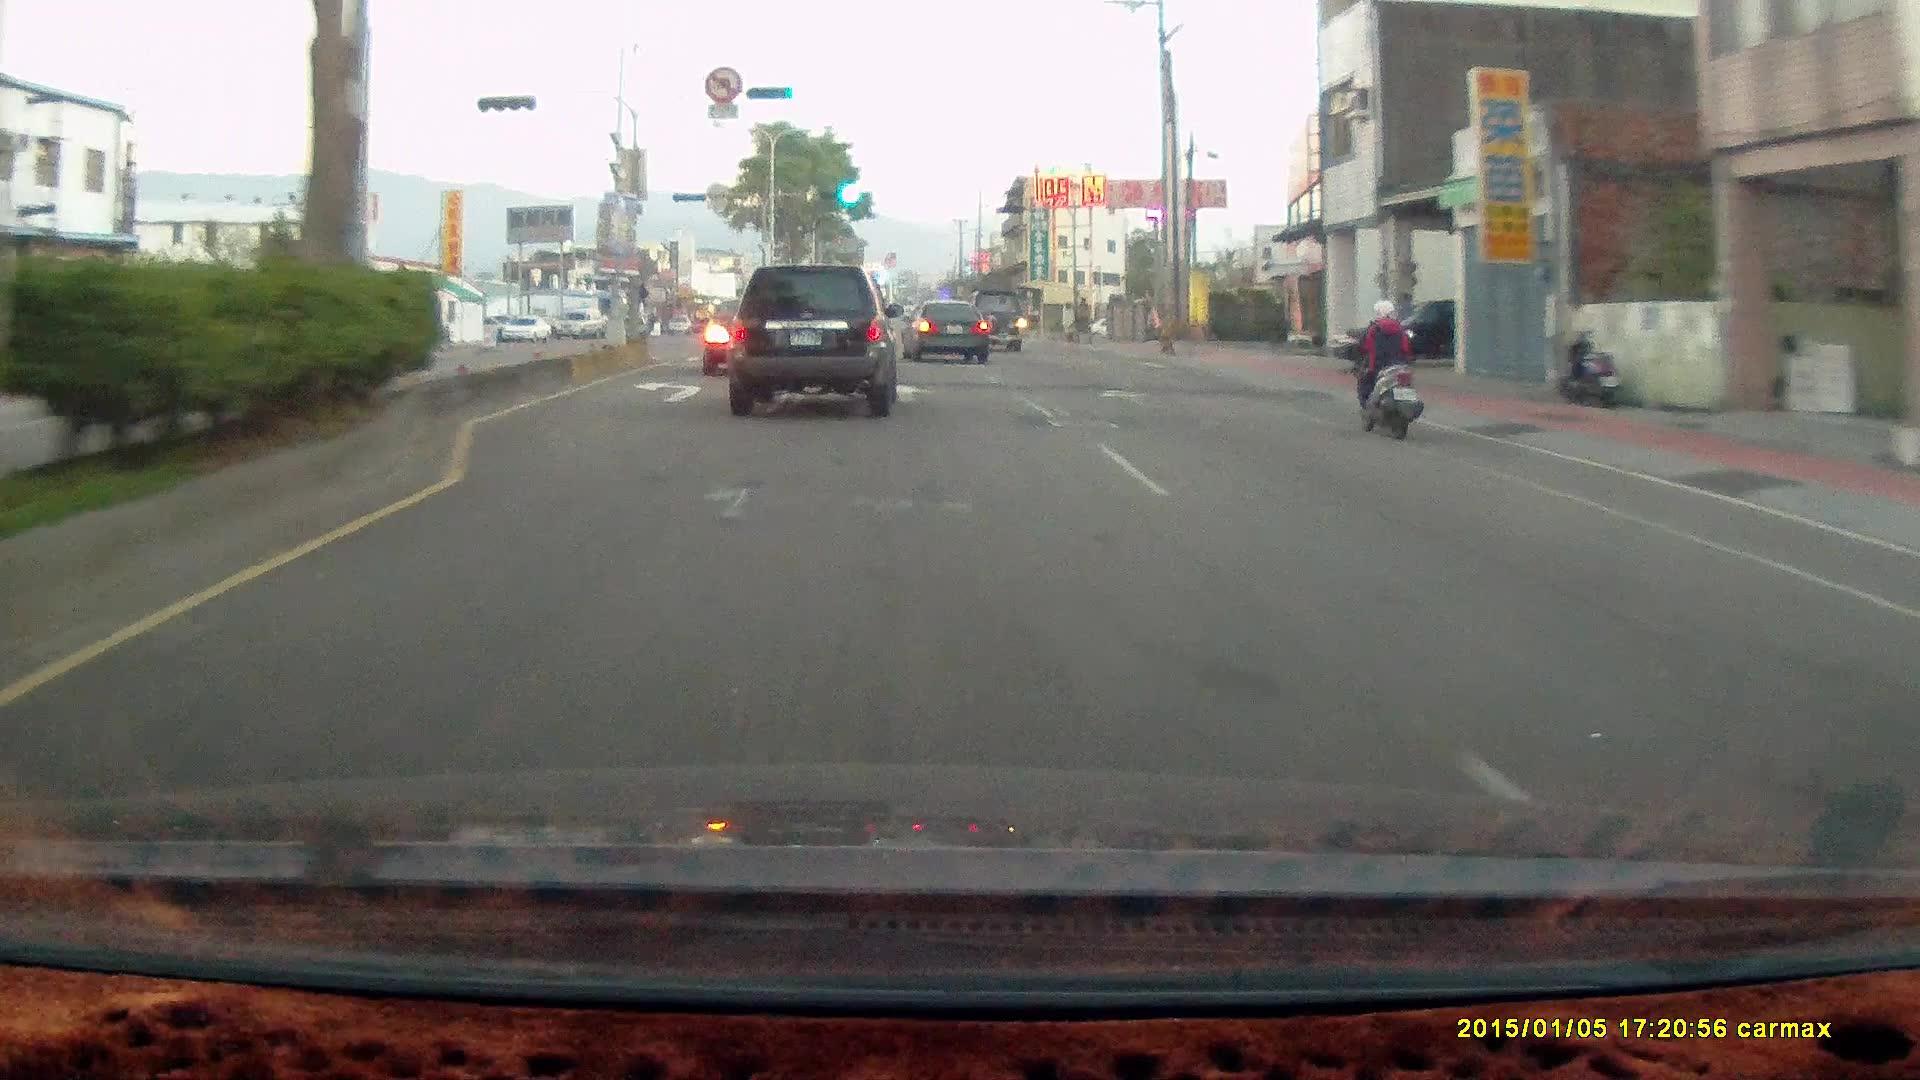rider: (1338, 290, 1436, 449), (1347, 293, 1423, 436)
vehicle: (720, 258, 899, 422), (724, 263, 902, 415), (1331, 296, 1522, 367), (1339, 292, 1468, 367), (702, 295, 807, 380), (699, 295, 804, 375), (906, 299, 992, 366), (904, 299, 990, 363), (961, 289, 1024, 356), (965, 290, 1025, 357), (499, 314, 551, 342), (554, 308, 603, 338)
